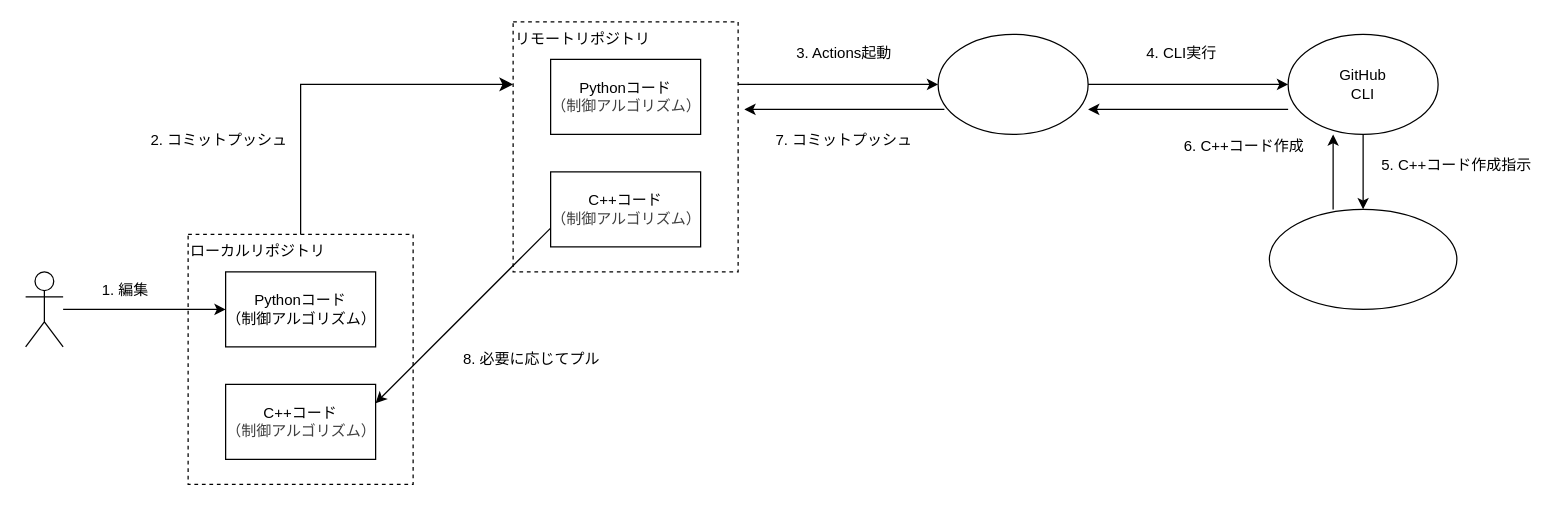
The diagram is 1560 pixels wide and 506 high, and some of its shapes have lost their labels. Here are the shapes that lost their labels. From the top down, the centre of each, then its label:
At (x=1012, y=83): "GitHub Actions".
At (x=1362, y=258): "生成AI モデル （Claude Sonnetなど）".
At (x=43, y=309): "設計者".
